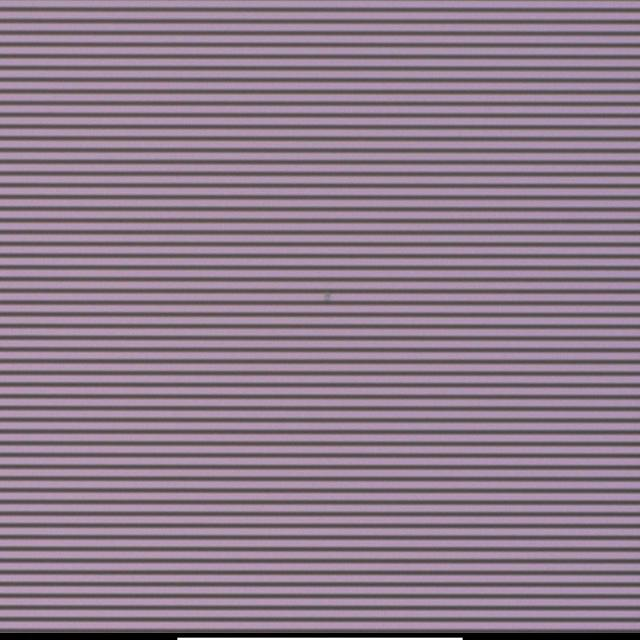nonvisual: (324, 288, 334, 300)
